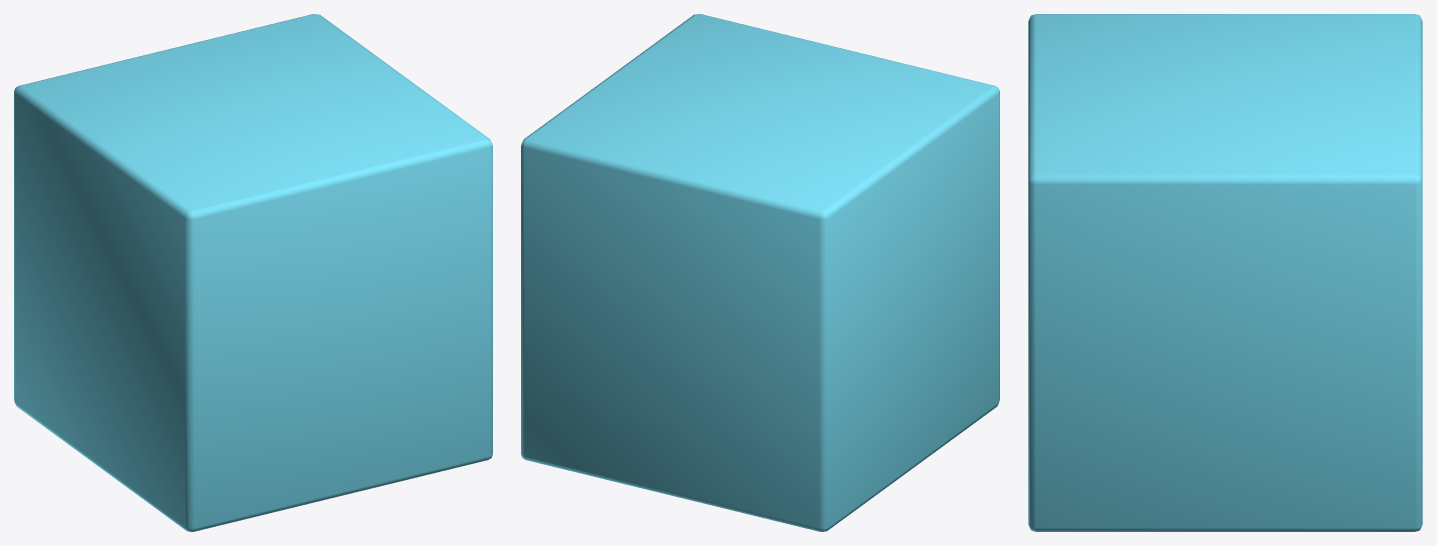
File: glow.glb
3 views of the same model, side by side, from view 1: azimuth 30°, elevation 25°; view 2: azimuth 150°, elevation 25°; view 3: azimuth 270°, elevation 25° (orthographic). The views are drawn at different scales.
Visible parts, largest first — view 1: glow; view 2: glow; view 3: glow.
Part boxes in pixels (x1,y1,x2,y2): glow: (14,14,492,531); glow: (521,14,999,531); glow: (1028,14,1422,531).
Bounding box in the file's own units: 1 × 1 × 1.
